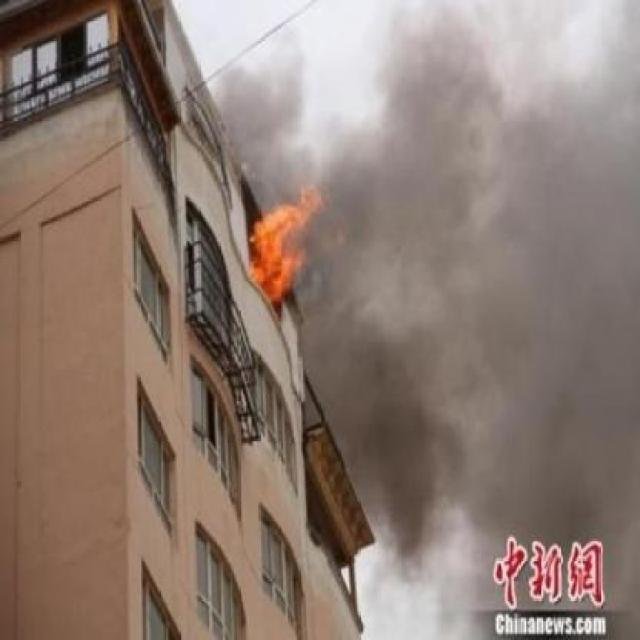Fire: (248, 183, 322, 306)
Smoke: (322, 41, 640, 519), (230, 62, 326, 183)
